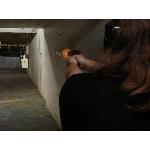Pistol: (67, 49, 81, 69)
